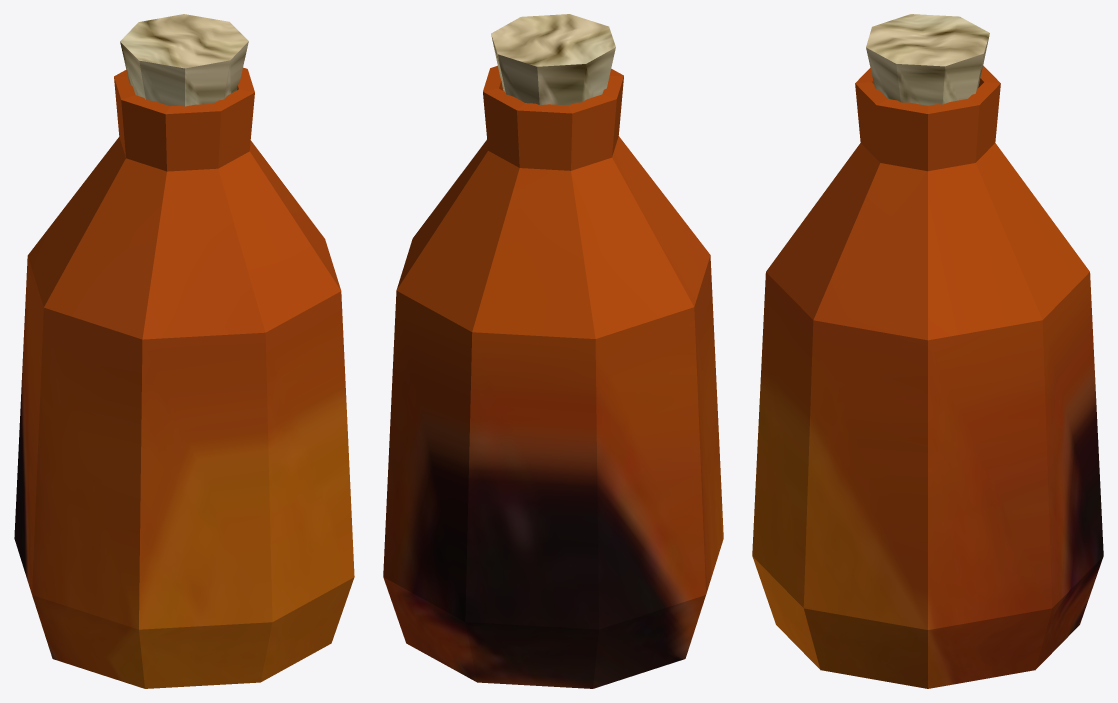
File: bottle1.fbx
3 renders of one model, left to right at view 1: azimuth 30°, elevation 25°; view 2: azimuth 150°, elevation 25°; view 3: azimuth 270°, elevation 25°, orthographic.
Parts seen in each view (by area): view 1: Cylinder; view 2: Cylinder; view 3: Cylinder.
Boxes of the visible parts, x1,y1,x2,y2 form: Cylinder: (14, 14, 354, 688); Cylinder: (383, 14, 723, 688); Cylinder: (752, 14, 1103, 688).
Size of the model in its own units: 169 by 310 by 169.
